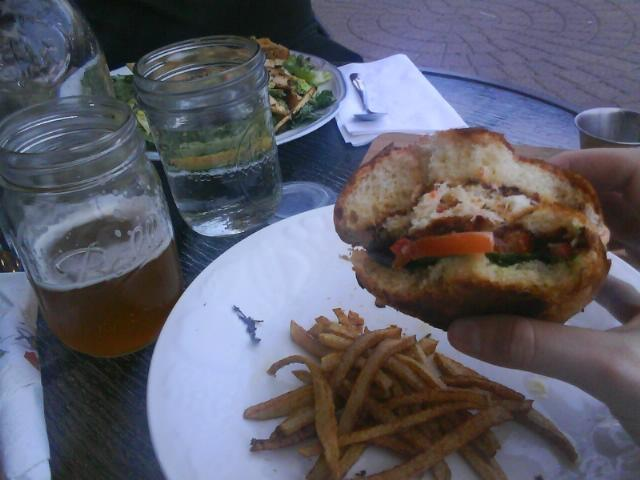tomato: (410, 231, 494, 256), (550, 243, 571, 256)
